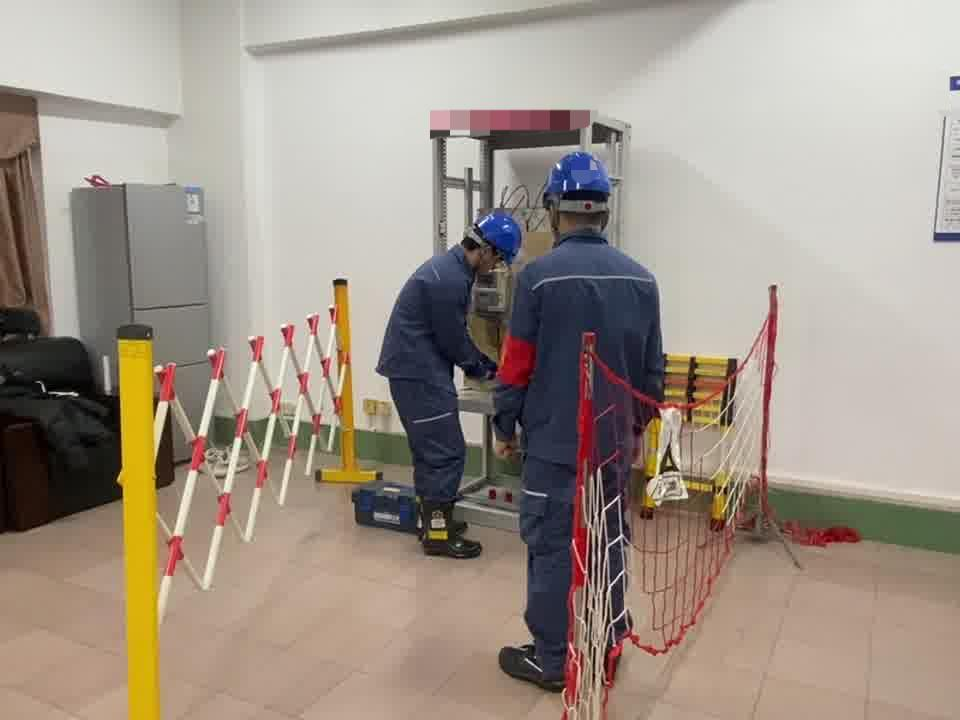halt: (544, 153, 618, 238), (477, 213, 527, 275)
inear: (474, 244, 499, 272)
